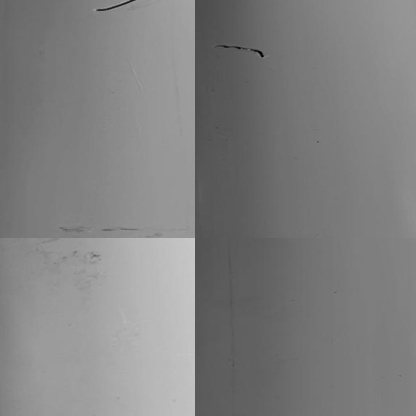fengxi: (215, 44, 267, 59), (94, 4, 140, 13)
